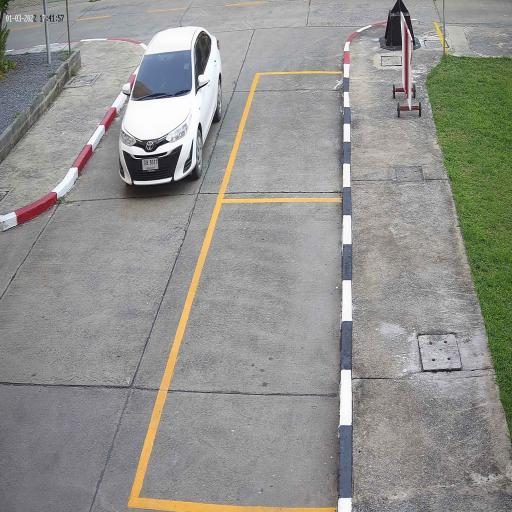car: (118, 29, 223, 183)
